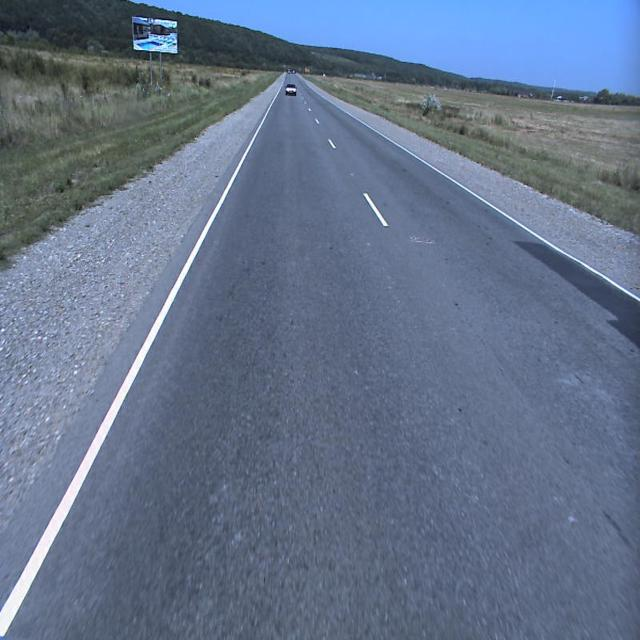road: (0, 72, 640, 639)
